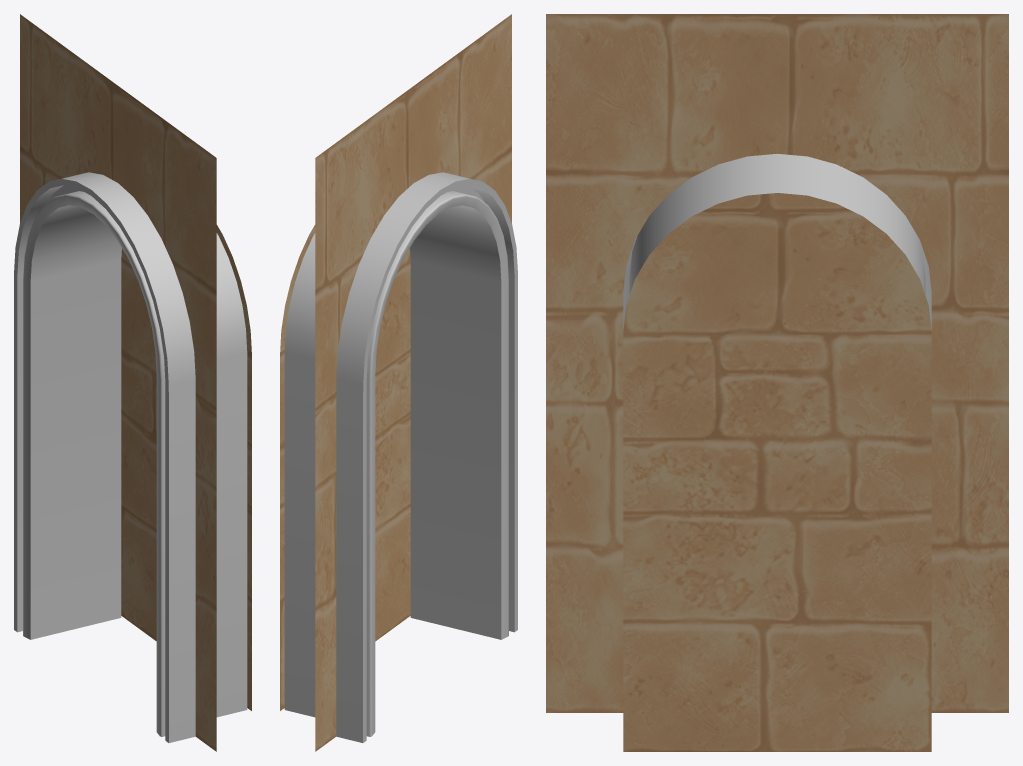
The model's file is SM_Wall_300x500_03.fbx.
3 views of the same model, side by side, from view 1: azimuth 30°, elevation 25°; view 2: azimuth 150°, elevation 25°; view 3: azimuth 270°, elevation 25° (orthographic). The views are drawn at different scales.
Parts seen in each view (by area): view 1: SM_Wall_300x500_03_LOD0; view 2: SM_Wall_300x500_03_LOD0; view 3: SM_Wall_300x500_03_LOD0.
Part boxes in pixels (x1,y1,x2,y2): SM_Wall_300x500_03_LOD0: (14,14,251,751); SM_Wall_300x500_03_LOD0: (280,14,517,751); SM_Wall_300x500_03_LOD0: (546,14,1008,751).
Bounding box in the file's own units: 83.69 × 300 × 500.
